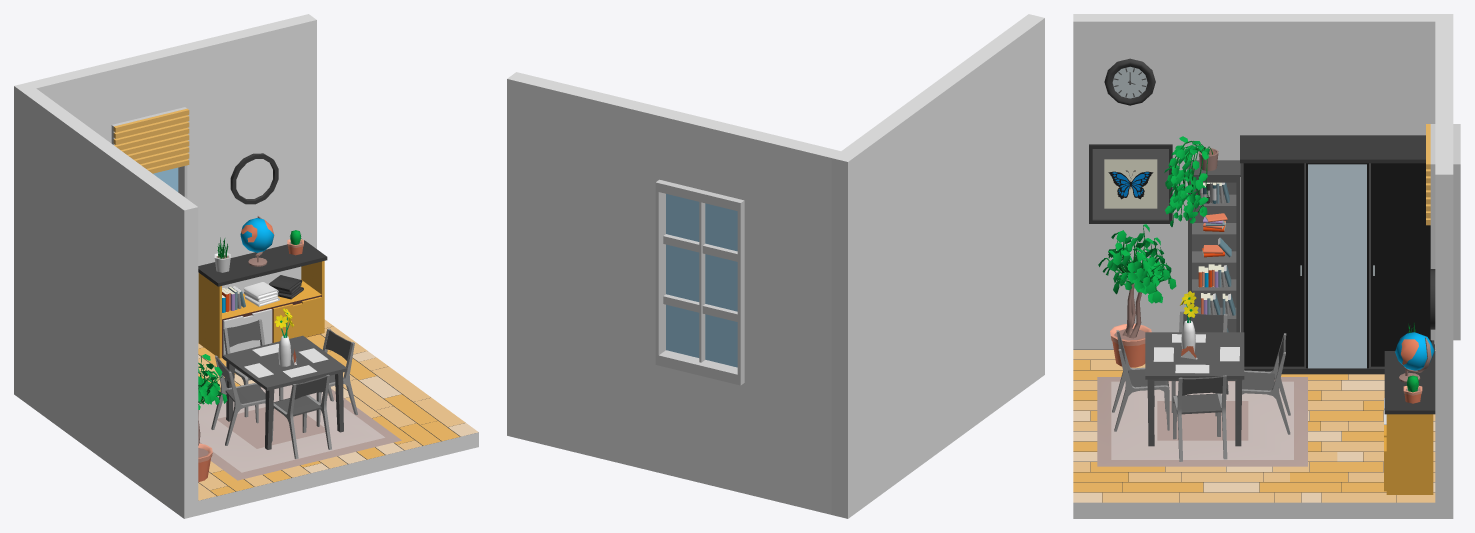
Rendered from room_25.glb.
The picture shows the model from 3 angles, left to right: view 1: azimuth 30°, elevation 25°; view 2: azimuth 150°, elevation 25°; view 3: azimuth 270°, elevation 25°; orthographic projection. The views are drawn at different scales.
Parts seen in each view (by area): view 1: Walls_006.075, Walls_006.076, floor_015.001, carpet_003.002, shelf_034.001, Walls_011.015, Walls_006.078, window_030.001, kitchen_table_015.001, Walls_006.074, picture_062.001, kitchen_chair_008.004 (+8 smaller); view 2: Walls_006.075, Walls_006.076, Walls_006.074, window_030.001, Walls_006.077, Walls_006.078; view 3: Walls_006.075, closet_028.001, floor_015.001, carpet_003.002, Walls_011.015, Walls_006.076, picture_052.002, shelf_034.001, shelf_026.001, flower_009.001, kitchen_table_015.001, window_030.001 (+12 smaller).
Boxes of the visible parts, x1=… form: Walls_006.075: x1=14, y1=82, x2=198, y2=518; Walls_006.076: x1=176, y1=14, x2=316, y2=342; floor_015.001: x1=198, y1=319, x2=478, y2=500; carpet_003.002: x1=198, y1=385, x2=401, y2=480; shelf_034.001: x1=198, y1=240, x2=327, y2=358; Walls_011.015: x1=198, y1=326, x2=478, y2=515; Walls_006.078: x1=105, y1=46, x2=183, y2=124; window_030.001: x1=111, y1=107, x2=189, y2=198; kitchen_table_015.001: x1=222, y1=335, x2=347, y2=449; Walls_006.074: x1=28, y1=64, x2=113, y2=143; picture_062.001: x1=230, y1=153, x2=278, y2=204; kitchen_chair_008.004: x1=272, y1=374, x2=331, y2=458; Walls_006.075: x1=831, y1=14, x2=1044, y2=518; Walls_006.076: x1=507, y1=72, x2=669, y2=473; Walls_006.074: x1=742, y1=129, x2=840, y2=514; window_030.001: x1=655, y1=179, x2=744, y2=385; Walls_006.077: x1=661, y1=366, x2=742, y2=492; Walls_006.078: x1=661, y1=109, x2=751, y2=199; Walls_006.075: x1=1073, y1=14, x2=1453, y2=349; closet_028.001: x1=1240, y1=135, x2=1434, y2=374; floor_015.001: x1=1073, y1=350, x2=1435, y2=502; carpet_003.002: x1=1097, y1=377, x2=1307, y2=466; Walls_011.015: x1=1073, y1=349, x2=1435, y2=518; Walls_006.076: x1=1435, y1=102, x2=1453, y2=518; picture_052.002: x1=1089, y1=144, x2=1172, y2=223; shelf_034.001: x1=1384, y1=351, x2=1435, y2=494; shelf_026.001: x1=1187, y1=160, x2=1240, y2=332; flower_009.001: x1=1098, y1=224, x2=1176, y2=367; kitchen_table_015.001: x1=1145, y1=332, x2=1244, y2=446; window_030.001: x1=1426, y1=124, x2=1460, y2=340.
Size of the model in its own units: 4.2 by 4.2 by 4.28.
Materials: 1 (1 with a texture image).
